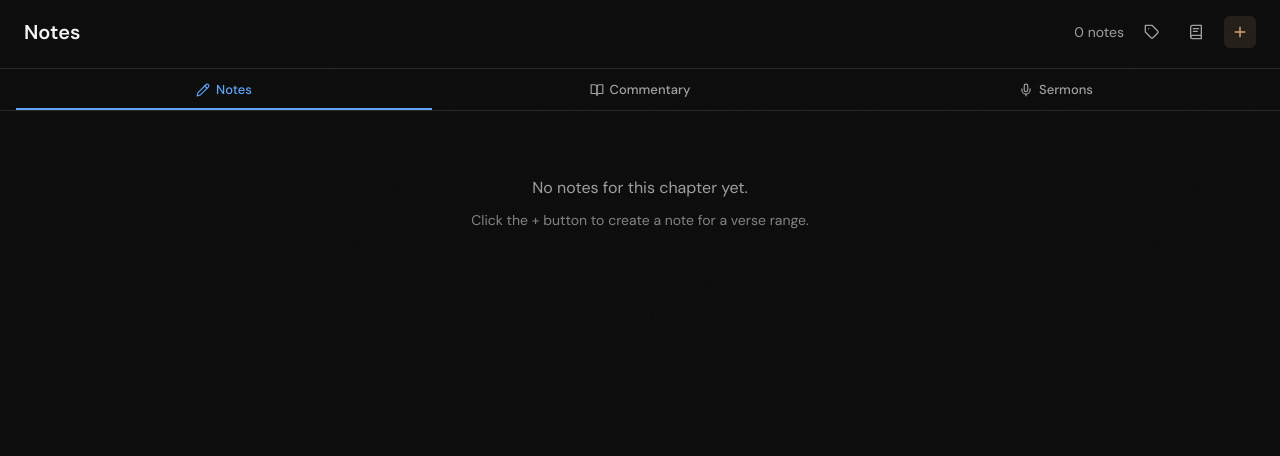
Test: NotesPanel › pluralization › shows correct plural for commentaries
Step 1. Click the button "Commentary" → x=640, y=90, box [432, 69, 848, 110]
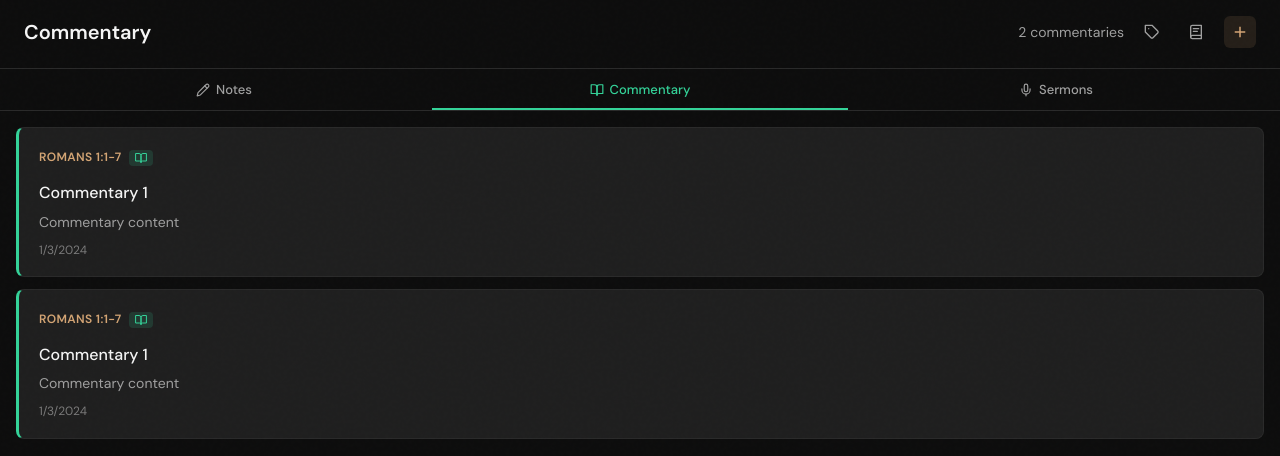
Check: the text "2 commentaries" is shown, box [1018, 21, 1124, 43]
